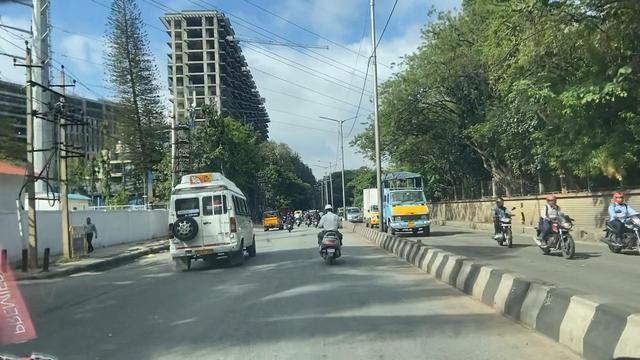HMV: (164, 172, 258, 269)
LMV: (306, 205, 348, 265)
